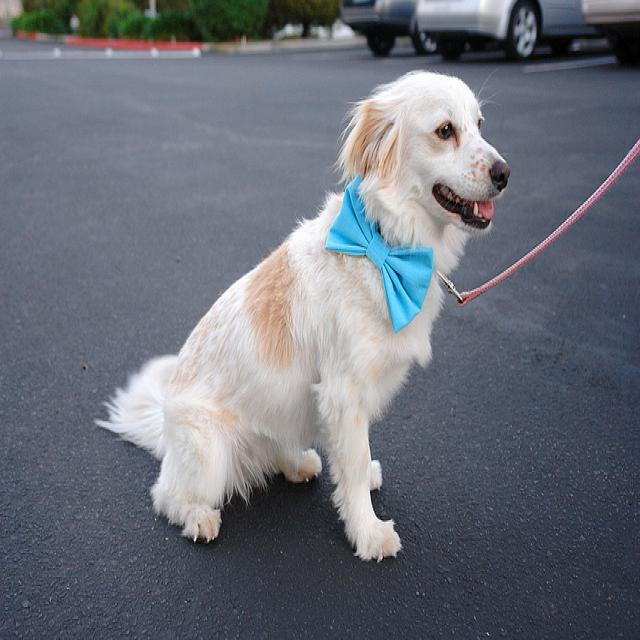Vehicle: (412, 0, 602, 71), (340, 0, 433, 53), (582, 2, 640, 69)
